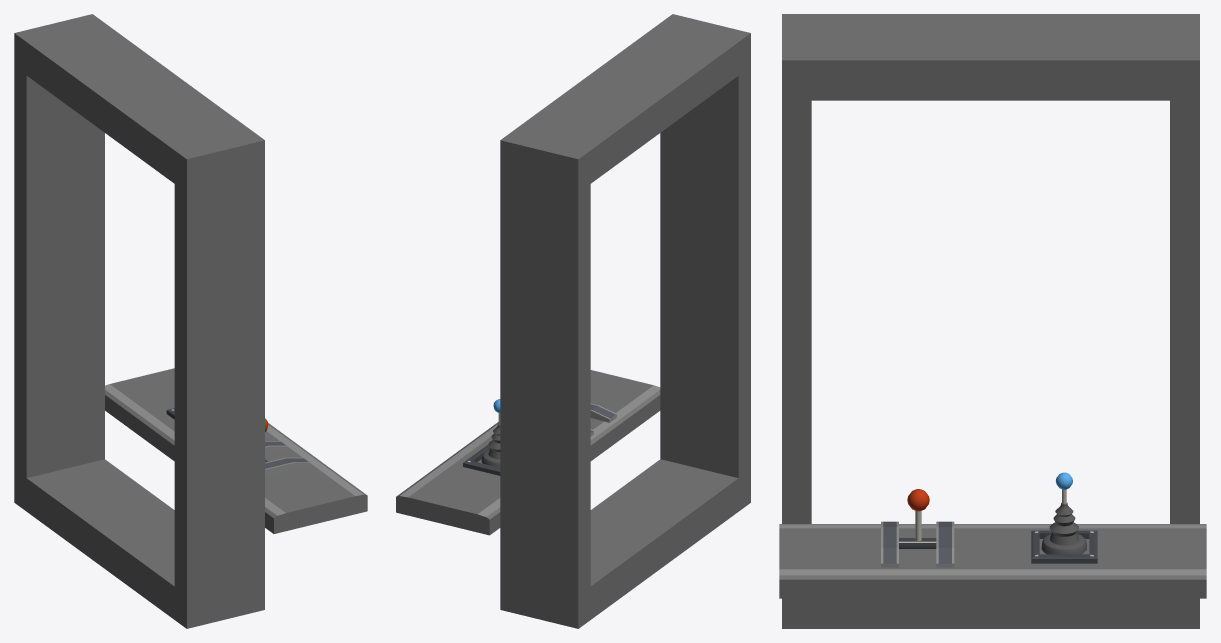
The model's file is boding controller.fbx.
3 views of the same model, side by side, from view 1: azimuth 30°, elevation 25°; view 2: azimuth 150°, elevation 25°; view 3: azimuth 270°, elevation 25° (orthographic). The views are drawn at different scales.
Visible parts, largest first — view 1: Cube.003, Cube.002, Cube.001; view 2: Cube.003, Cube.002, Circle; view 3: Cube.003, Cube.002, Circle, Cube.001, Cube, Sphere.
Part boxes in pixels (x1,y1,x2,y2): Cube.003: (14,14,264,628); Cube.002: (105,368,367,533); Cube.001: (265,440,310,477); Cube.003: (500,14,750,628); Cube.002: (396,370,660,535); Circle: (481,399,500,467); Cube.003: (782,14,1199,628); Cube.002: (779,524,1206,598); Circle: (1041,472,1086,554); Cube.001: (881,521,954,567); Cube: (1031,530,1097,563); Sphere: (899,489,936,548).
Bounding box in the file's own units: 459 × 1147 × 781.
1 material, 1 textured.
